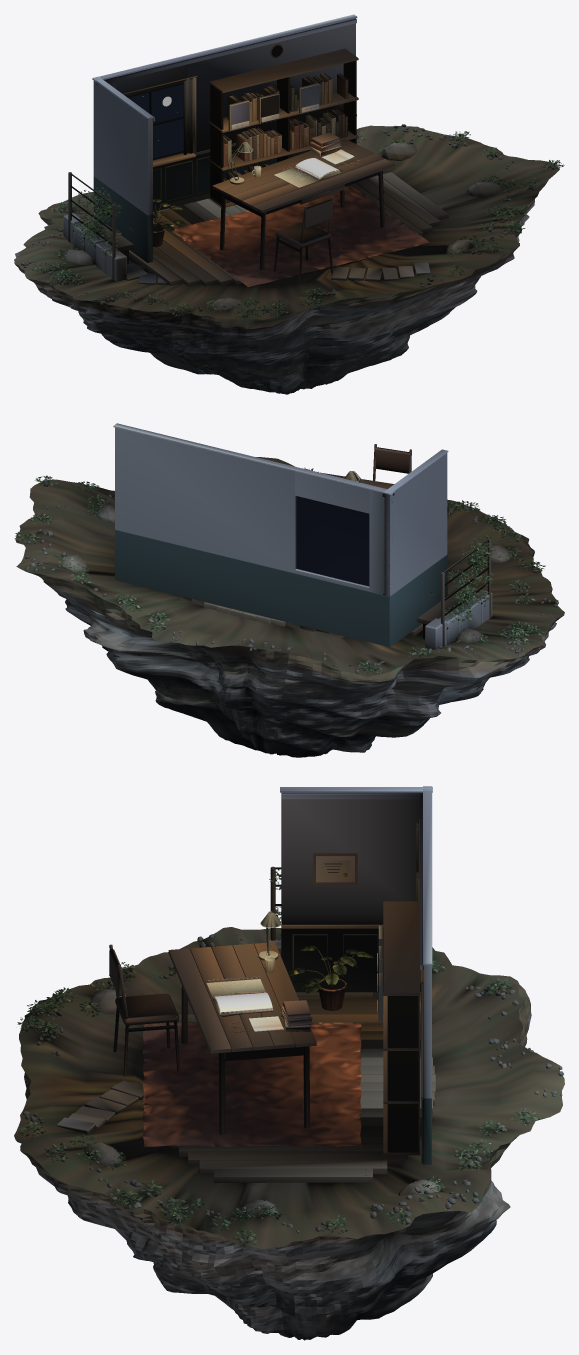
The model's file is flight-writing-8128420a.glb.
3 views of the same model, one above another, from view 1: azimuth 30°, elevation 25°; view 2: azimuth 150°, elevation 25°; view 3: azimuth 270°, elevation 25° (orthographic). The views are drawn at different scales.
Visible parts, largest first — view 1: Writing island · flight; view 2: Writing island · flight; view 3: Writing island · flight.
Part boxes in pixels (bbox=[...]): Writing island · flight: bbox=[14, 14, 564, 394]; Writing island · flight: bbox=[14, 423, 564, 757]; Writing island · flight: bbox=[14, 786, 564, 1340].
Size of the model in its own units: 12.01 by 7.17 by 8.14.
